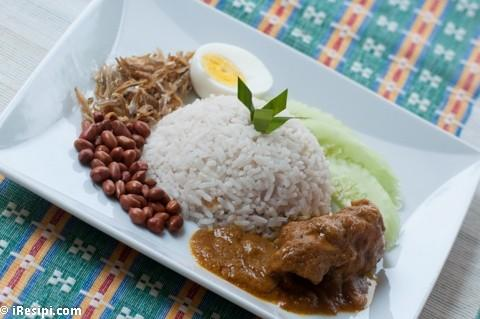Anchovies: (75, 49, 194, 128)
Boiled-Egg: (188, 43, 274, 101)
Cucumber: (279, 103, 403, 268)
Peanuts: (74, 117, 184, 237)
Rendang-Chicken: (189, 199, 385, 315)
Rice: (140, 97, 334, 239)
